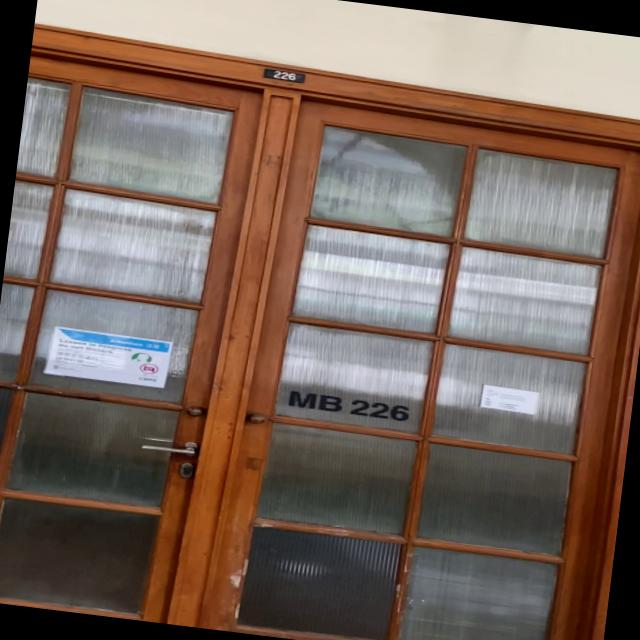room226: (256, 66, 311, 86)
room226Window: (284, 388, 409, 424)
